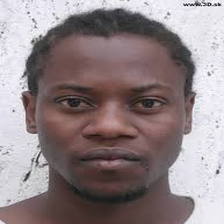no_mask: (36, 42, 186, 196)
